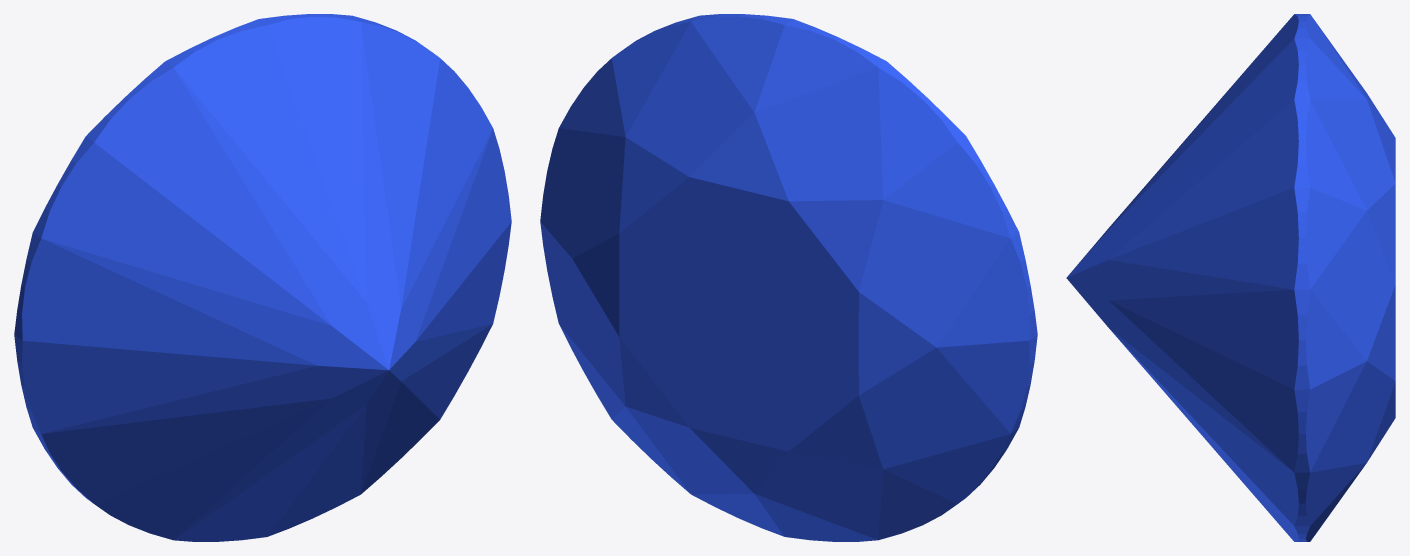
The model's file is diamond (1).fbx.
3 views of the same model, side by side, from view 1: azimuth 30°, elevation 25°; view 2: azimuth 150°, elevation 25°; view 3: azimuth 270°, elevation 25° (orthographic). The views are drawn at different scales.
Parts seen in each view (by area): view 1: 53; view 2: 53; view 3: 53.
Boxes of the visible parts, box(x1,y1,x2,y2) form: 53: box(14, 14, 511, 541); 53: box(540, 14, 1037, 541); 53: box(1066, 14, 1395, 541).
Bounding box in the file's own units: 33.77 × 33.77 × 21.05.
